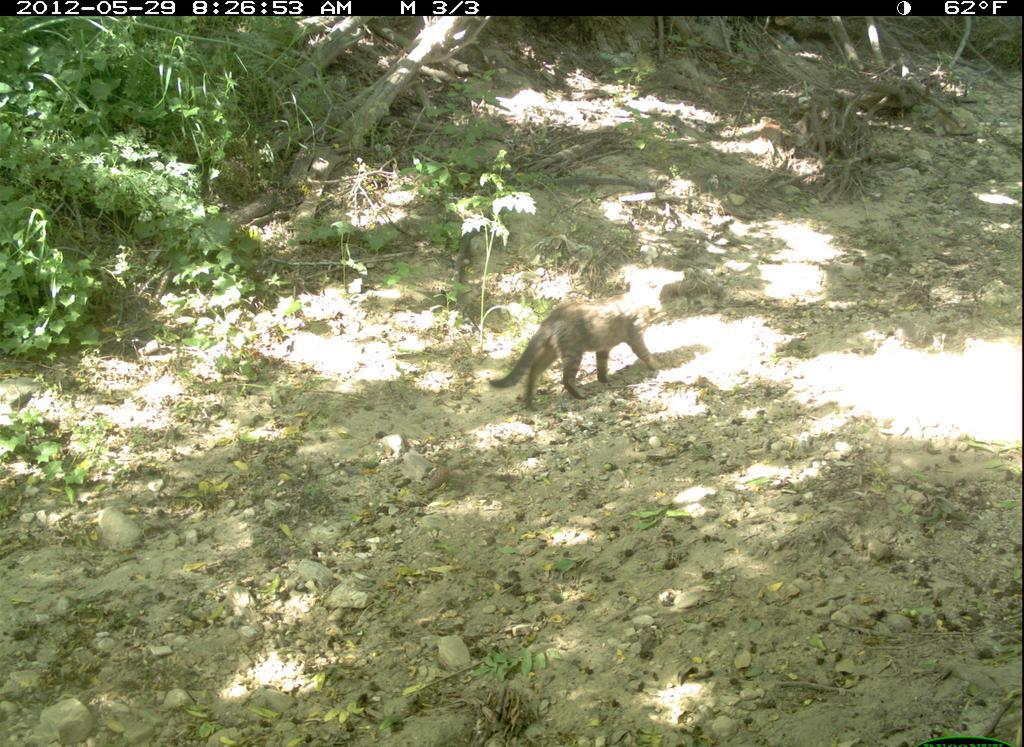cat: (484, 277, 667, 415)
